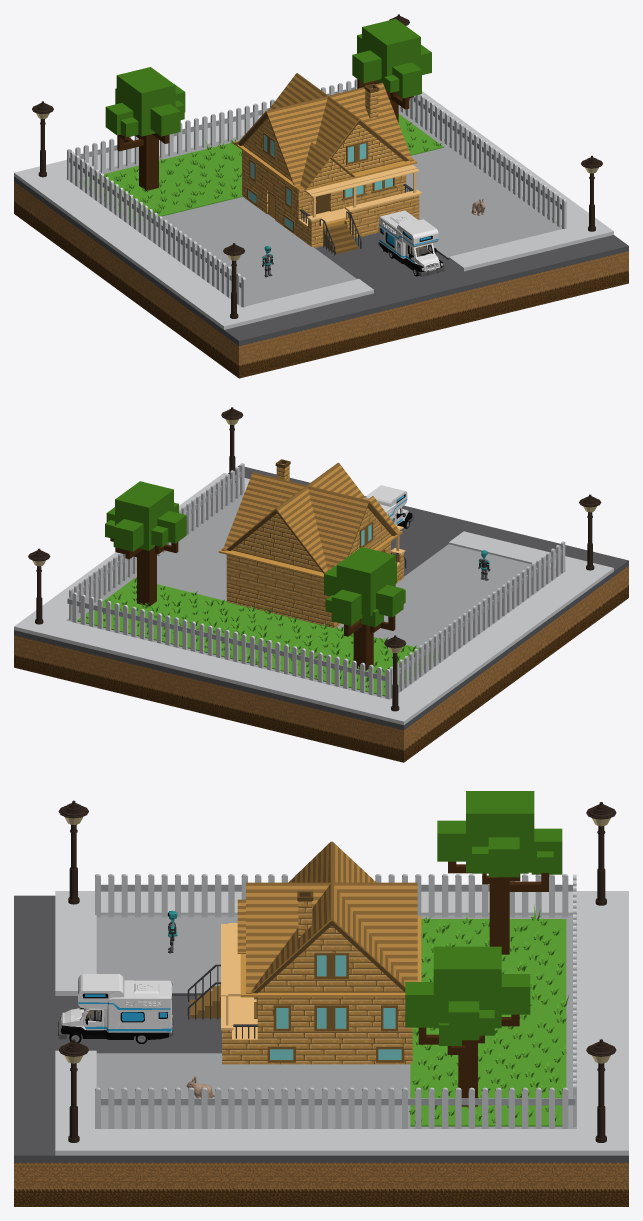
3 views of the same model, one above another, from view 1: azimuth 30°, elevation 25°; view 2: azimuth 150°, elevation 25°; view 3: azimuth 270°, elevation 25° (orthographic). The views are drawn at different scales.
Parts seen in each view (by area): view 1: Cube.004, Cube.508, VEHICLES_CAMPER; view 2: Cube.004, Cube.508, VEHICLES_CAMPER; view 3: Cube.004, Cube.508, VEHICLES_CAMPER.
Part boxes in pixels (bbox=[...]): Cube.004: bbox=[14, 14, 628, 378]; Cube.508: bbox=[233, 73, 422, 255]; VEHICLES_CAMPER: bbox=[378, 210, 444, 276]; Cube.004: bbox=[14, 407, 628, 762]; Cube.508: bbox=[218, 459, 406, 627]; VEHICLES_CAMPER: bbox=[366, 485, 413, 528]; Cube.004: bbox=[14, 791, 628, 1206]; Cube.508: bbox=[187, 841, 421, 1064]; VEHICLES_CAMPER: bbox=[58, 974, 173, 1043].
Size of the model in its own units: 4000 by 1617 by 4000.
Materials: 38 (4 with a texture image).
